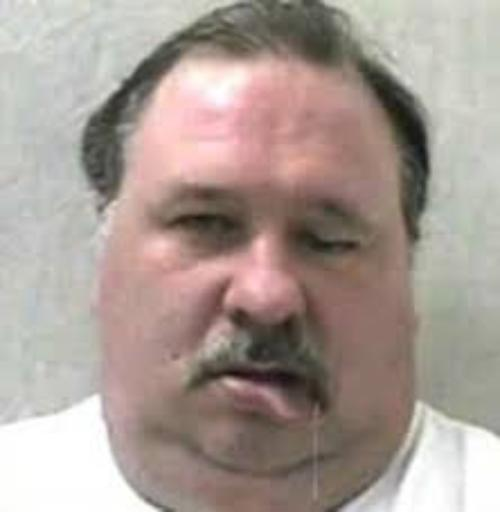left_eye: (302, 233, 371, 263)
right_eye: (163, 213, 244, 243)
right_lip_corner: (196, 363, 236, 396)
